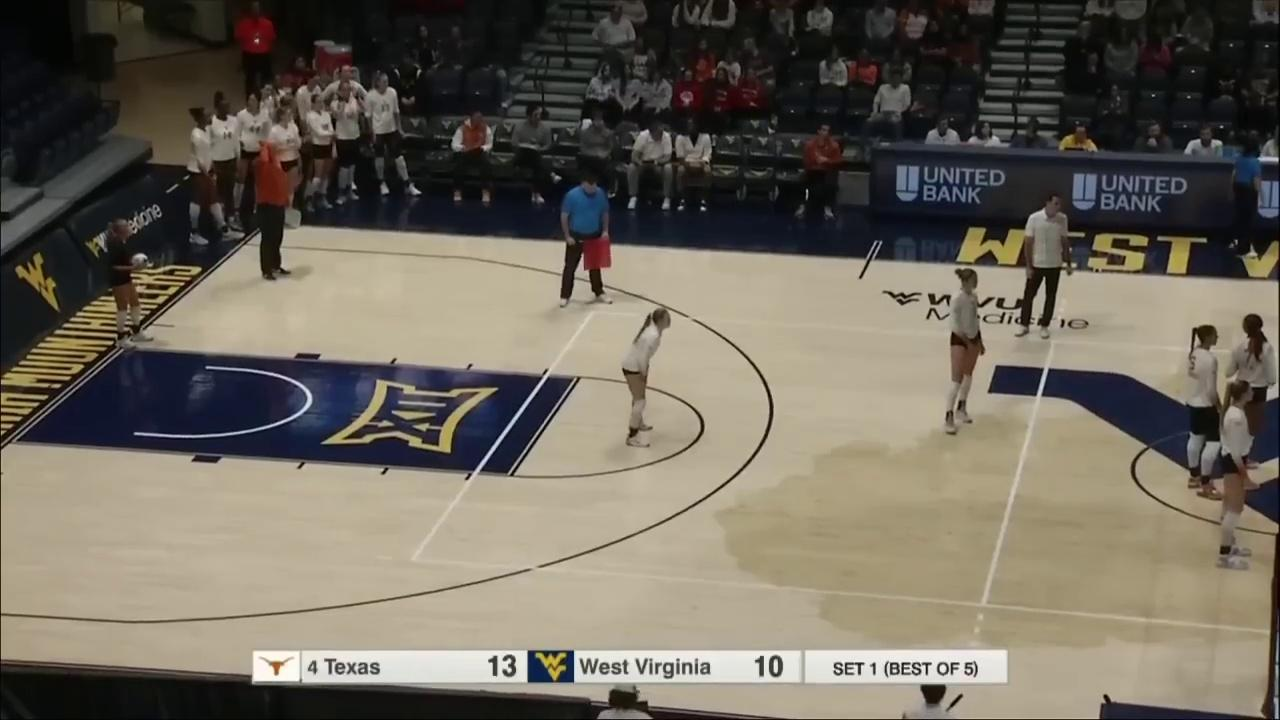player: (1231, 316, 1272, 490), (1218, 383, 1253, 573), (105, 218, 154, 350), (624, 311, 670, 451), (948, 268, 983, 431), (1189, 324, 1221, 498)
refree: (559, 178, 608, 304), (1231, 141, 1262, 255)
